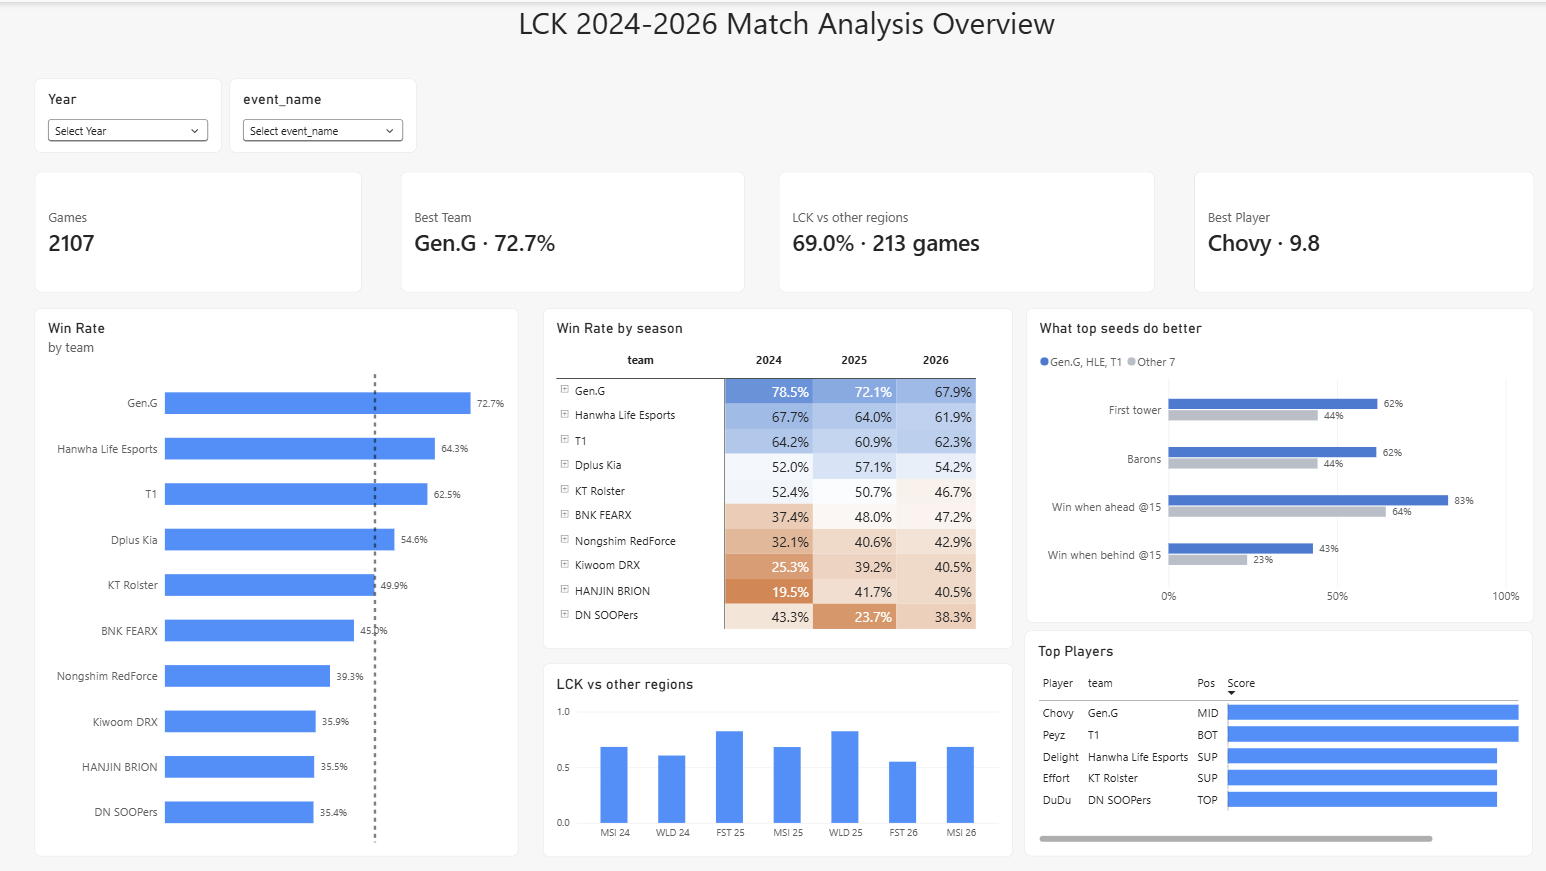

What the dashboard file says about the page in this screenshot:
{"tool":"powerbi","page":{"name":"Page 2","canvas":[1920,1080],"ordinal":1},"visuals":[{"type":"listSlicer","fields":{"Values":["team_games.date.Variation.Date Hierarchy.Year"]},"box":[42.5,95,232.2,92.2],"z":0},{"type":"listSlicer","fields":{"Values":["team_games.event_name"]},"box":[285,95,232.2,92.2],"z":1000},{"type":"textbox","box":[0,0,1920,67.5],"z":2000},{"type":"cardVisual","fields":{"Data":["team_games.Games"]},"box":[43.3,210,406.7,150],"z":3000},{"type":"cardVisual","fields":{"Data":["team_games.Best Team Label"]},"box":[497.5,210,427.5,150],"z":4000},{"type":"cardVisual","fields":{"Data":["team_games.Intl Label"]},"box":[965,210,467.5,150],"z":5000},{"type":"cardVisual","fields":{"Data":["player_scores.Best Player"]},"box":[1480,210,422.5,150],"z":6000},{"type":"clusteredBarChart","fields":{"Category":["team_games.team"],"Y":["team_games.Win Rate"]},"box":[43.3,380,600,680],"z":7000},{"type":"clusteredColumnChart","title":"LCK vs other regions","fields":{"Category":["team_games.event_label"],"Y":["team_games.Intl WR"]},"box":[672.5,820,582.5,240],"z":8000},{"type":"pivotTable","title":"Win Rate by season","fields":{"Columns":["team_games.season"],"Rows":["team_games.team","player_games.is_lck_team","team_games.is_lck_team"],"Values":["team_games.Win Rate"]},"box":[672.5,380,582.5,422.5],"z":9000},{"type":"clusteredBarChart","title":"What top seeds do better","fields":{"Category":["Metrics.metric"],"Series":["team_games.team_group"],"Y":["team_games.Style Value"]},"box":[1271.7,380,630,390],"z":10000},{"type":"tableEx","title":"Top Players","fields":{"Values":["player_scores.player","Teams.team","player_scores.pos","Max(player_scores.score)"]},"box":[1270,780,630,280],"z":11000}]}

Visuals, with their boxes in screenshot pixels (x1, y1, x2, y2), scaled from the page's 1920x1080 canvas onto the 1546x871 screenshot:
listSlicer - team_games.date.Variation.Date Hierarchy.Year: x1=34 y1=77 x2=221 y2=151
listSlicer - team_games.event_name: x1=229 y1=77 x2=416 y2=151
textbox: x1=0 y1=0 x2=1545 y2=54
cardVisual - team_games.Games: x1=35 y1=169 x2=362 y2=290
cardVisual - team_games.Best Team Label: x1=401 y1=169 x2=745 y2=290
cardVisual - team_games.Intl Label: x1=777 y1=169 x2=1153 y2=290
cardVisual - player_scores.Best Player: x1=1192 y1=169 x2=1532 y2=290
clusteredBarChart - team_games.team x team_games.Win Rate: x1=35 y1=306 x2=518 y2=855
"LCK vs other regions" clusteredColumnChart: x1=542 y1=661 x2=1011 y2=855
"Win Rate by season" pivotTable: x1=542 y1=306 x2=1011 y2=647
"What top seeds do better" clusteredBarChart: x1=1024 y1=306 x2=1531 y2=621
"Top Players" tableEx: x1=1023 y1=629 x2=1530 y2=855
